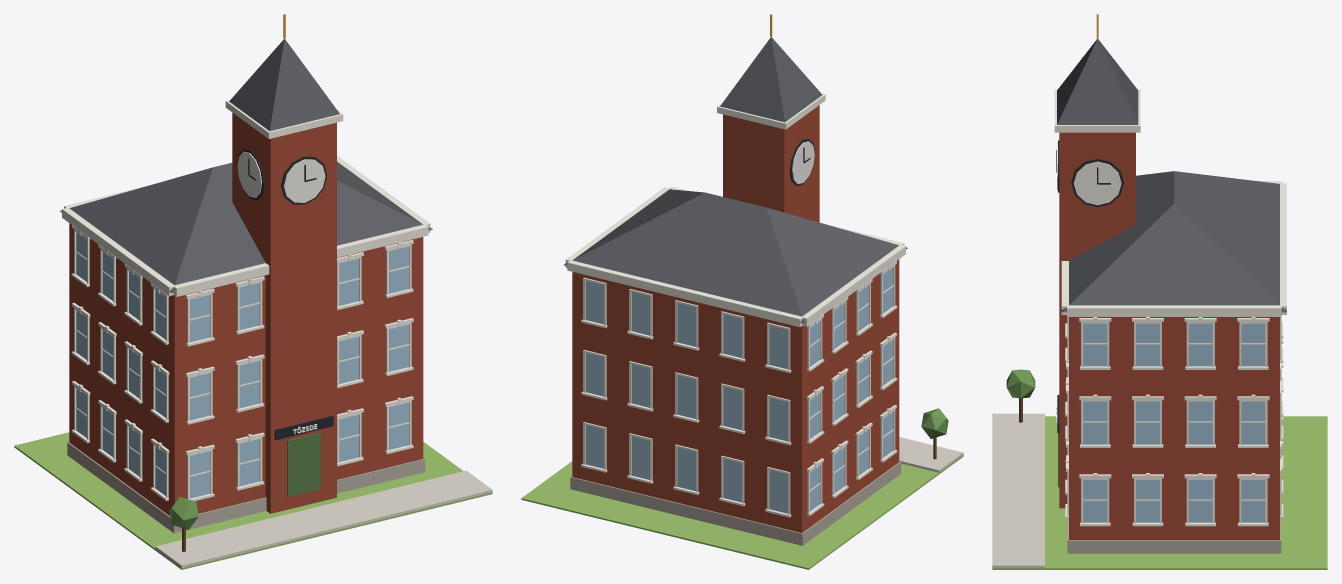
Rendered from Buro_saat_kuleli_1_Hafif.fbx.
The picture shows the model from 3 angles, left to right: view 1: azimuth 30°, elevation 25°; view 2: azimuth 150°, elevation 25°; view 3: azimuth 270°, elevation 25°; orthographic projection. The views are drawn at different scales.
Parts seen in each view (by area): view 1: Buro_saat_kuleli_1_Hafif; view 2: Buro_saat_kuleli_1_Hafif; view 3: Buro_saat_kuleli_1_Hafif.
Boxes of the visible parts, box(x1,y1,x2,y2) form: Buro_saat_kuleli_1_Hafif: box(14, 14, 492, 569); Buro_saat_kuleli_1_Hafif: box(521, 14, 963, 569); Buro_saat_kuleli_1_Hafif: box(992, 14, 1327, 569).
Size of the model in its own units: 15 by 22.08 by 14.
